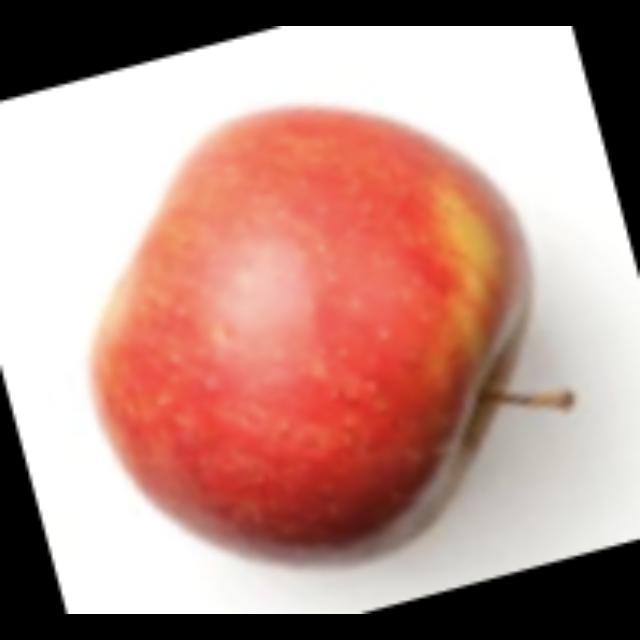Apel Segar: (94, 101, 534, 569)
